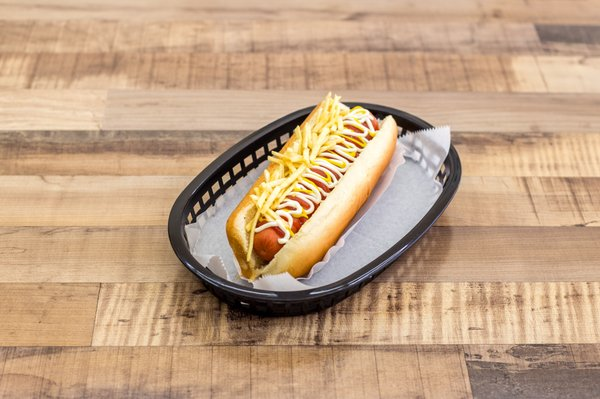curry: (15, 4, 599, 394)
